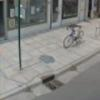bicycles: (63, 25, 84, 48)
